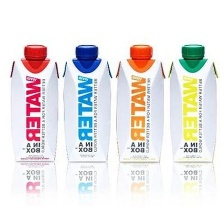carton: (6, 40, 60, 163), (61, 39, 113, 162), (114, 39, 165, 163), (166, 42, 217, 165)
